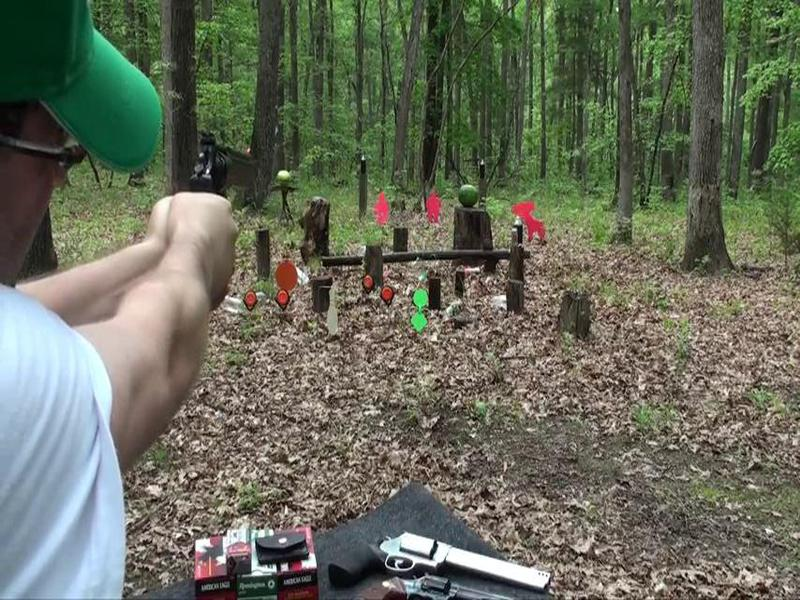Revolver: (181, 124, 274, 228)
